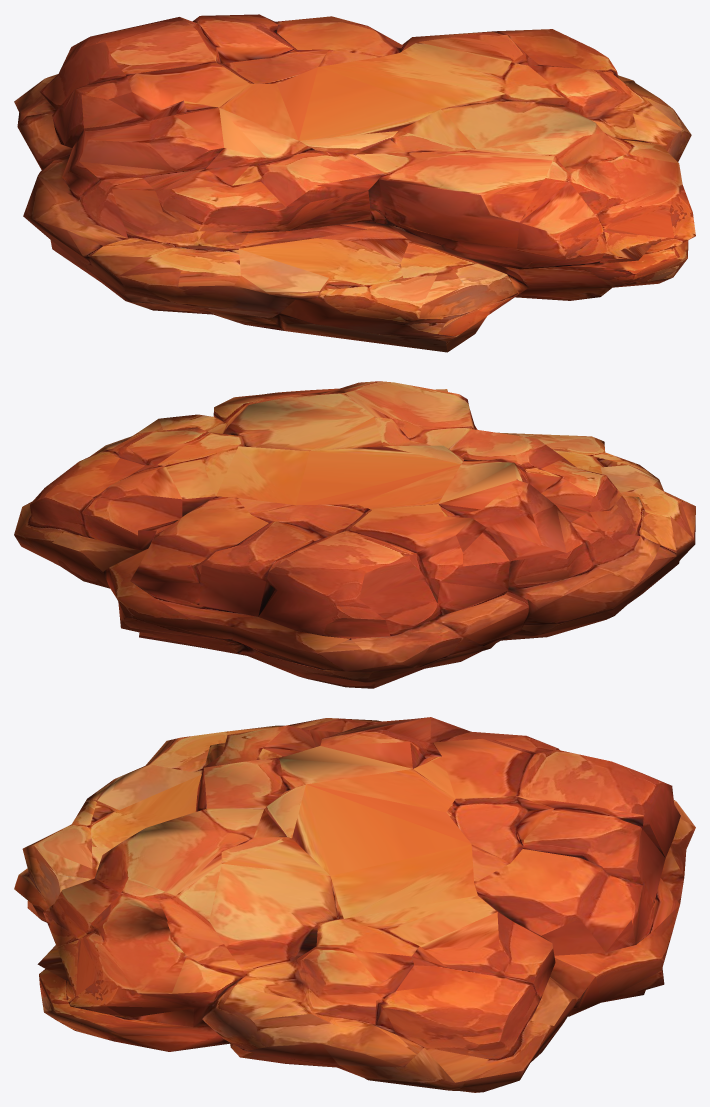
The model's file is rockE.glb.
3 views of the same model, one above another, from view 1: azimuth 30°, elevation 25°; view 2: azimuth 150°, elevation 25°; view 3: azimuth 270°, elevation 25° (orthographic). The views are drawn at different scales.
Parts seen in each view (by area): view 1: RedRockKitE; view 2: RedRockKitE; view 3: RedRockKitE.
Part boxes in pixels (left/top/right/bottom): RedRockKitE: left=14, top=14, right=695, bottom=352; RedRockKitE: left=14, top=381, right=695, bottom=688; RedRockKitE: left=14, top=717, right=695, bottom=1092.
Bounding box in the file's own units: 5.76 × 1.1 × 5.23.
Materials: 1 (1 with a texture image).
